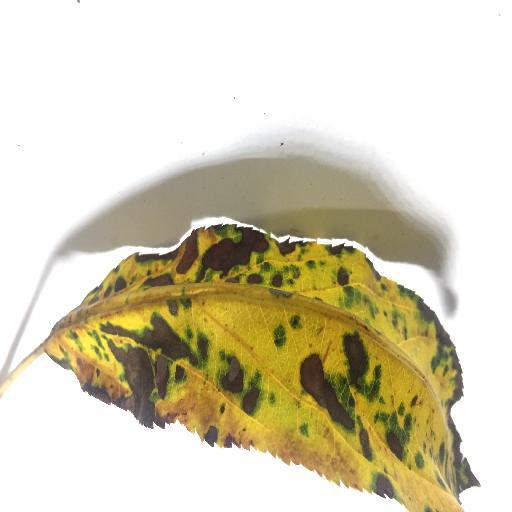Brown_Spot: (2, 193, 489, 512)
